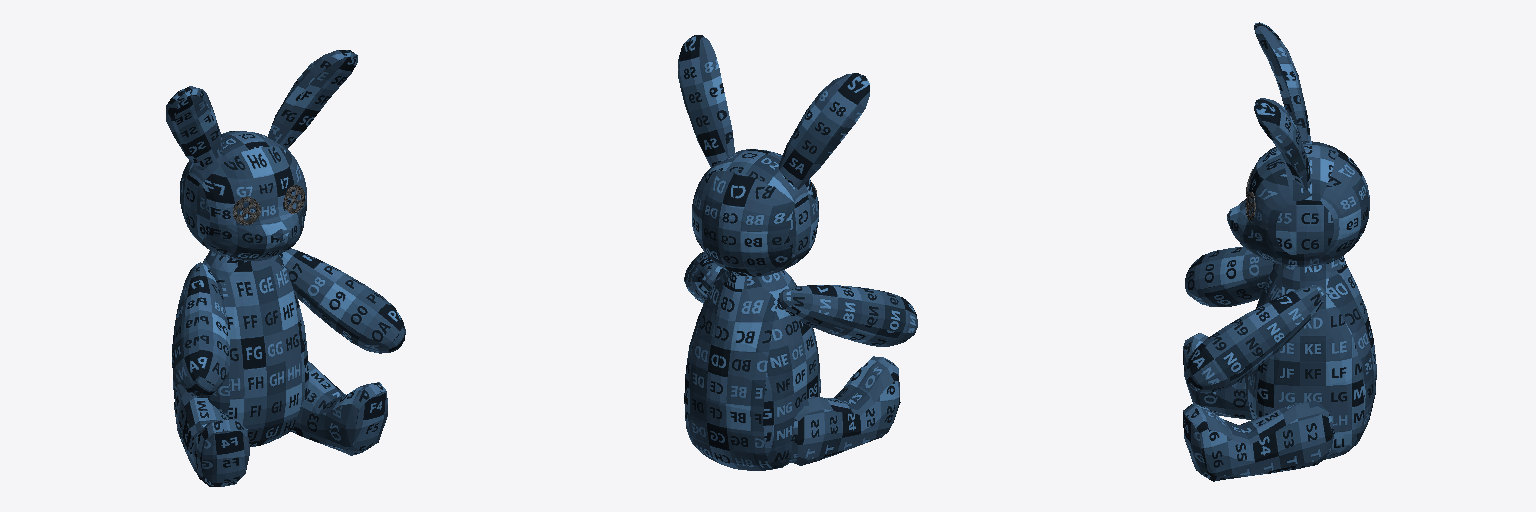
The picture shows the model from 3 angles: view 1: azimuth 30°, elevation 25°; view 2: azimuth 150°, elevation 25°; view 3: azimuth 270°, elevation 25°; orthographic projection.
Visible parts, largest first — view 1: Rabbit Torso, Head Rabbit, Rabbit Arm_L Left, Rabbit Arm_R Right, Rabbit Left Leg_L, Rabbit Right Leg_R, Rabbit Left Ear_L, Rabbit Right Ear_R, Rabbit Left Eye_L; view 2: Rabbit Torso, Head Rabbit, Rabbit Right Leg_R, Rabbit Arm_R Right, Rabbit Right Ear_R, Rabbit Left Ear_L, Rabbit Arm_L Left; view 3: Rabbit Torso, Head Rabbit, Rabbit Left Leg_L, Rabbit Arm_L Left, Rabbit Arm_R Right, Rabbit Right Ear_R, Rabbit Left Ear_L, Rabbit Right Leg_R.
Boxes of the visible parts, box(x1,y1,x2,y2) form: Rabbit Torso: box(172, 251, 308, 446); Head Rabbit: box(180, 131, 306, 260); Rabbit Arm_L Left: box(279, 248, 405, 353); Rabbit Arm_R Right: box(172, 262, 230, 397); Rabbit Left Leg_L: box(290, 361, 387, 455); Rabbit Right Leg_R: box(174, 384, 249, 486); Rabbit Left Ear_L: box(267, 50, 357, 148); Rabbit Right Ear_R: box(166, 86, 222, 169); Rabbit Left Eye_L: box(233, 185, 304, 224); Rabbit Torso: box(684, 268, 820, 470); Head Rabbit: box(692, 149, 818, 276); Rabbit Right Leg_R: box(789, 356, 900, 465); Rabbit Arm_R Right: box(778, 285, 917, 346); Rabbit Right Ear_R: box(779, 73, 869, 189); Rabbit Left Ear_L: box(678, 35, 734, 166); Rabbit Arm_L Left: box(684, 252, 721, 303); Rabbit Torso: box(1245, 255, 1376, 459); Head Rabbit: box(1227, 141, 1369, 266); Rabbit Left Leg_L: box(1183, 401, 1334, 481); Rabbit Arm_L Left: box(1185, 285, 1325, 392); Rabbit Arm_R Right: box(1185, 247, 1275, 306); Rabbit Right Ear_R: box(1254, 22, 1310, 140); Rabbit Left Ear_L: box(1254, 98, 1310, 190); Rabbit Right Leg_R: box(1183, 333, 1251, 419).
Bounding box in the file's own units: 4.49 × 7.47 × 3.4.
Materials: 2 (2 with a texture image).